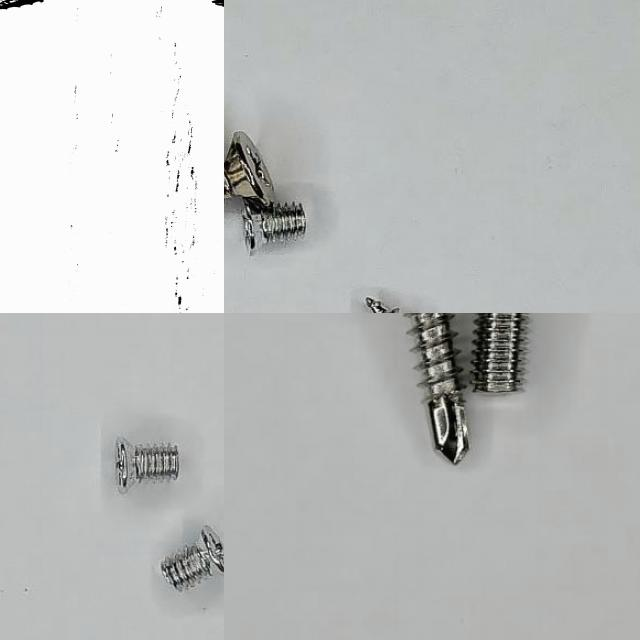Screw: (406, 313, 469, 464), (472, 313, 529, 392), (161, 525, 224, 592), (224, 131, 275, 211), (116, 436, 181, 494), (244, 201, 307, 254)
